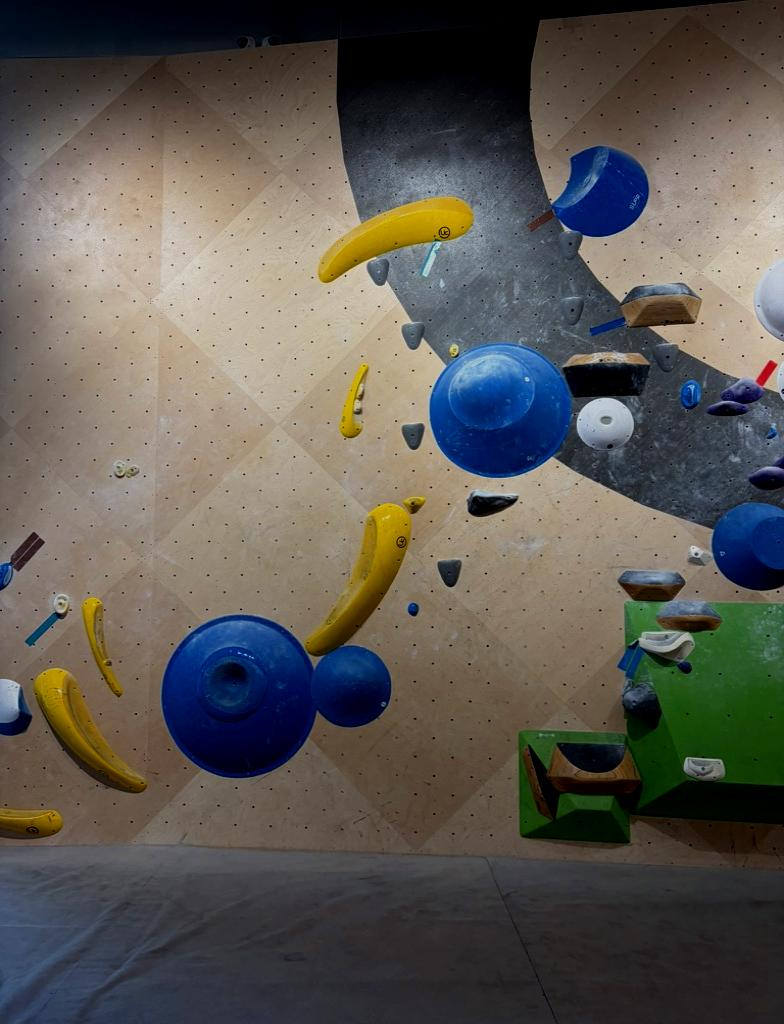crimp: (707, 400, 747, 415), (681, 380, 700, 407)
downhold: (653, 342, 678, 371), (558, 230, 581, 259), (559, 296, 582, 324), (401, 424, 424, 449), (438, 560, 460, 586), (403, 322, 424, 349), (368, 258, 388, 285)
jib: (0, 808, 61, 835), (683, 757, 724, 780), (689, 546, 710, 565), (54, 593, 69, 617), (404, 496, 425, 513), (113, 460, 126, 477), (126, 464, 139, 476), (767, 424, 776, 439), (408, 602, 418, 615)
jug: (622, 680, 660, 727), (638, 631, 694, 661), (468, 490, 518, 516), (722, 377, 763, 404), (748, 466, 783, 489)
ledge: (547, 741, 639, 794), (562, 351, 649, 397), (621, 282, 701, 327), (0, 807, 61, 838)
pinch: (35, 669, 145, 791), (82, 597, 121, 696), (341, 363, 368, 436)
pocket: (162, 615, 315, 776), (577, 398, 633, 450)
sidepull: (305, 503, 413, 655), (552, 146, 647, 236), (523, 745, 559, 819)
sloper: (431, 344, 571, 476), (320, 197, 472, 281), (713, 503, 783, 590), (311, 647, 388, 725)
tape: (10, 532, 43, 569), (26, 613, 57, 645), (618, 641, 643, 679), (421, 241, 440, 276), (589, 317, 625, 335), (528, 209, 553, 230), (756, 361, 775, 385)
undercling: (656, 600, 722, 630), (619, 570, 684, 600)
volume: (624, 599, 783, 823), (519, 729, 630, 843)
